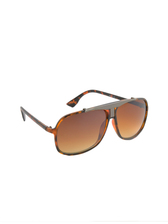glasses: (16, 86, 152, 152)
